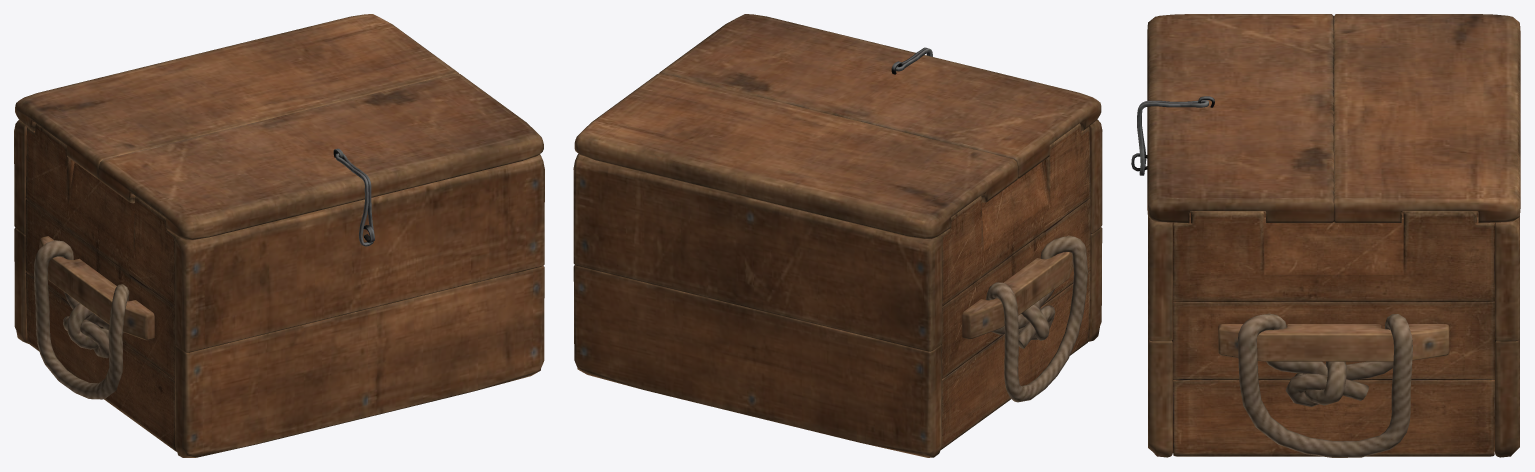
File: wood-crate.glb
3 renders of one model, left to right at view 1: azimuth 30°, elevation 25°; view 2: azimuth 150°, elevation 25°; view 3: azimuth 270°, elevation 25°, orthographic. The views are drawn at different scales.
Visible parts, largest first — view 1: wood-crate; view 2: wood-crate; view 3: wood-crate.
Part boxes in pixels (x1,y1,x2,y2): wood-crate: [14, 14, 544, 457]; wood-crate: [573, 14, 1102, 457]; wood-crate: [1131, 14, 1520, 457].
Bounding box in the file's own units: 0.85 × 0.48 × 0.63.
Materials: 1 (1 with a texture image).
